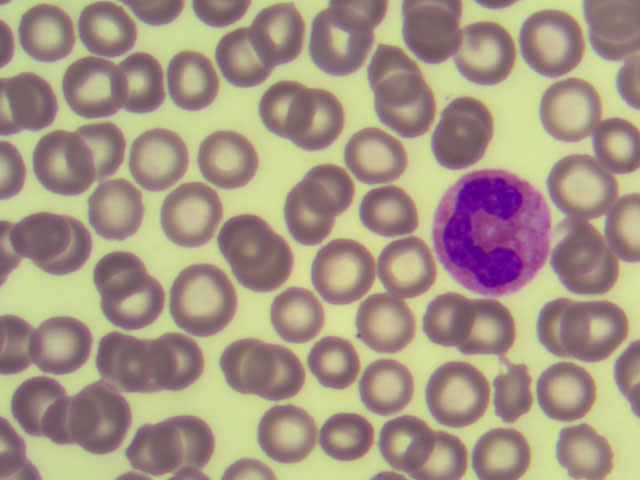RBC: (15, 5, 76, 58), (60, 62, 121, 115), (107, 52, 168, 105), (156, 52, 217, 105), (210, 38, 271, 91), (241, 12, 302, 65), (253, 82, 314, 135), (286, 92, 347, 145), (192, 134, 253, 187), (133, 130, 194, 183), (80, 124, 141, 177), (35, 130, 96, 183), (79, 183, 140, 236), (16, 210, 77, 263), (42, 231, 103, 284), (83, 250, 144, 303), (111, 278, 172, 331), (172, 276, 233, 329), (212, 210, 273, 263), (236, 240, 297, 293), (159, 187, 220, 240), (274, 192, 335, 245), (300, 164, 361, 217), (343, 126, 404, 179), (381, 89, 442, 142), (363, 40, 424, 93), (314, 9, 375, 62), (434, 94, 495, 147), (426, 118, 487, 171), (453, 30, 514, 83), (409, 10, 470, 63), (515, 13, 576, 66), (542, 87, 603, 140), (579, 117, 640, 170), (549, 152, 610, 205), (550, 215, 611, 268), (558, 244, 619, 297), (579, 310, 640, 363), (545, 305, 606, 358), (538, 357, 599, 410), (548, 421, 609, 474), (464, 427, 525, 480), (413, 427, 474, 480), (378, 425, 439, 478), (313, 396, 374, 449), (269, 404, 330, 457), (356, 369, 417, 422), (304, 341, 365, 394), (349, 297, 410, 350), (359, 292, 420, 345), (372, 252, 433, 305), (424, 295, 485, 348), (458, 303, 519, 356), (434, 370, 495, 423), (473, 365, 534, 418), (306, 241, 367, 294), (361, 181, 422, 234), (276, 288, 337, 341), (248, 346, 309, 399), (225, 336, 286, 389), (157, 331, 218, 384), (112, 341, 173, 394), (85, 327, 146, 380), (16, 311, 77, 364), (17, 381, 78, 434), (30, 393, 91, 446), (71, 387, 132, 440), (125, 423, 186, 476), (165, 418, 226, 471), (2, 71, 63, 124), (80, 1, 141, 53)
WBC: (429, 167, 552, 297)
